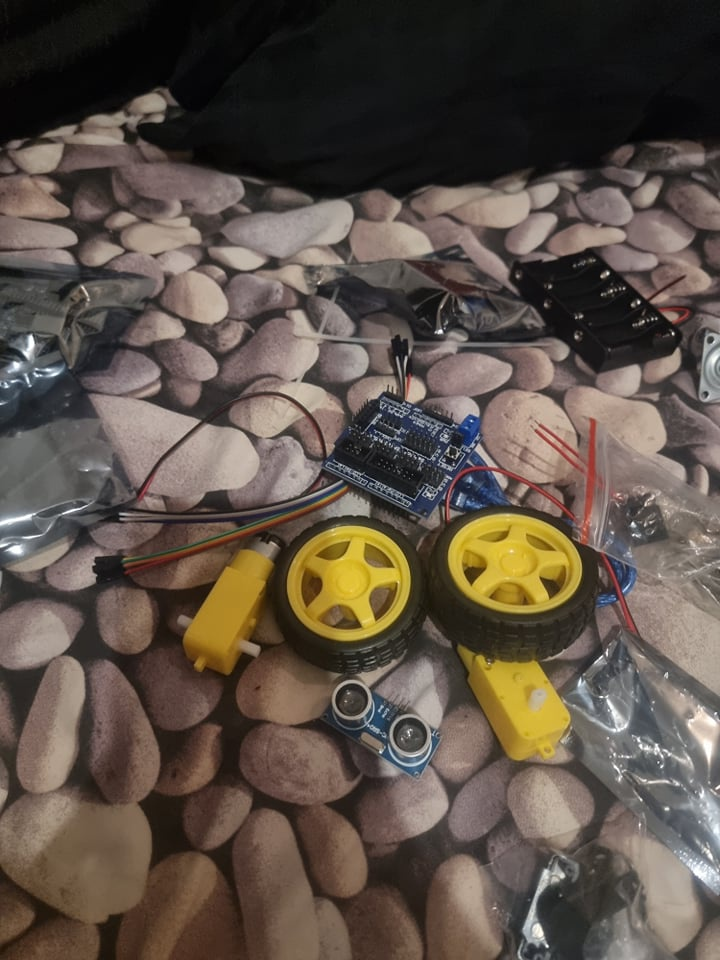5V EXPANSION: (325, 392, 479, 520)
BATTERY BOX: (508, 246, 682, 376)
SENSOR: (318, 676, 439, 775)
